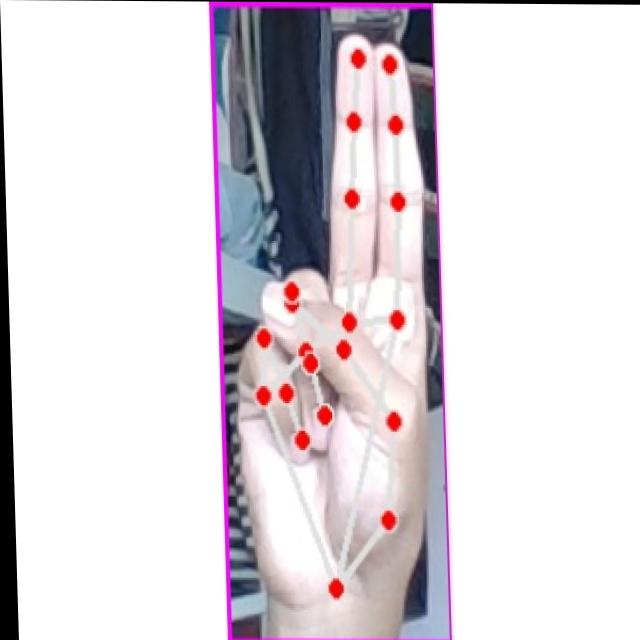U: (228, 27, 432, 607)
